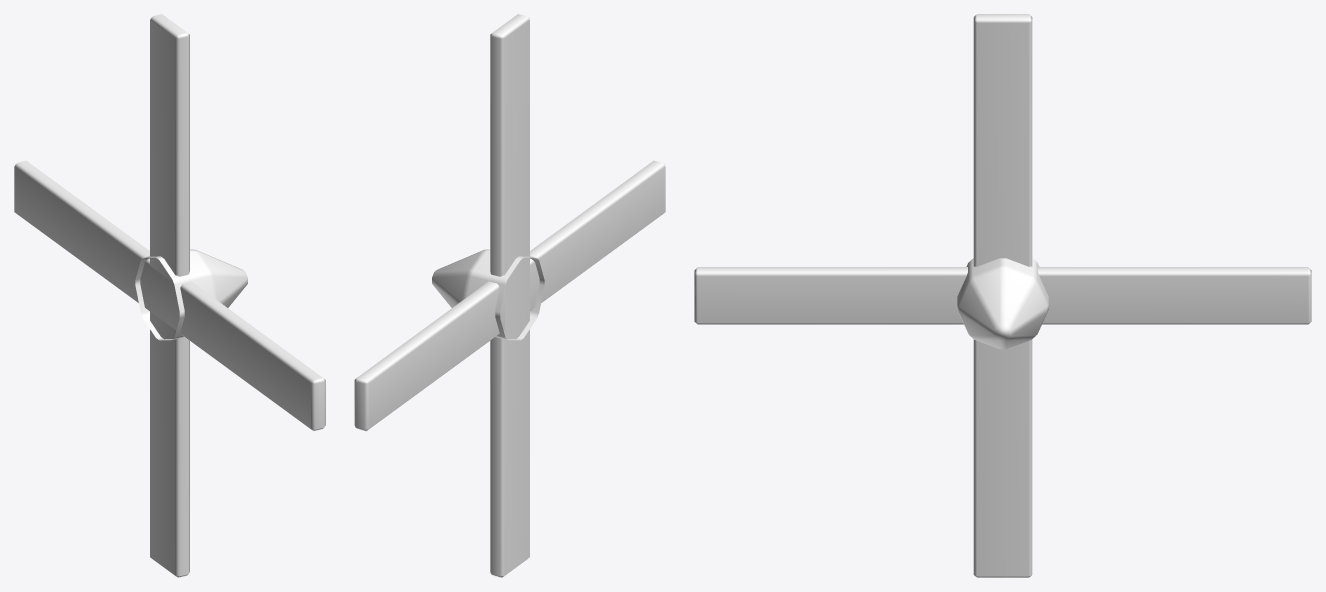
Rendered from propeller.glb.
3 views of the same model, side by side, from view 1: azimuth 30°, elevation 25°; view 2: azimuth 150°, elevation 25°; view 3: azimuth 270°, elevation 25° (orthographic). The views are drawn at different scales.
Parts seen in each view (by area): view 1: Propeller; view 2: Propeller; view 3: Propeller.
Part boxes in pixels (x1=…): Propeller: x1=14, y1=14, x2=325, y2=577; Propeller: x1=354, y1=14, x2=665, y2=577; Propeller: x1=694, y1=14, x2=1311, y2=577.
Bounding box in the file's own units: 0.3499 × 2.1 × 2.1.
1 material, 1 textured.
